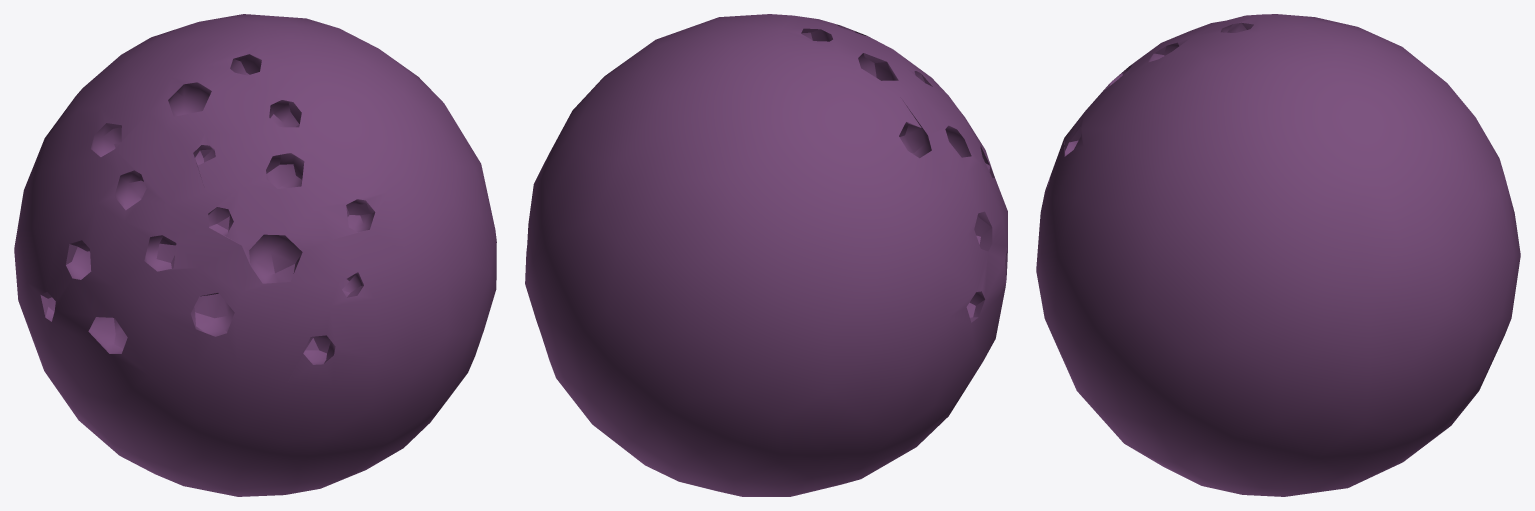
Rendered from nucleus3.glb.
The picture shows the model from 3 angles, left to right: view 1: azimuth 30°, elevation 25°; view 2: azimuth 150°, elevation 25°; view 3: azimuth 270°, elevation 25°; orthographic projection.
Parts seen in each view (by area): view 1: Nucleolus; view 2: Nucleolus; view 3: Nucleolus.
Part boxes in pixels (box(x1,y1,x2,y2)): Nucleolus: box(14, 14, 496, 496); Nucleolus: box(525, 14, 1007, 496); Nucleolus: box(1036, 14, 1520, 496).
Bounding box in the file's own units: 2.78 × 2.78 × 2.79.
